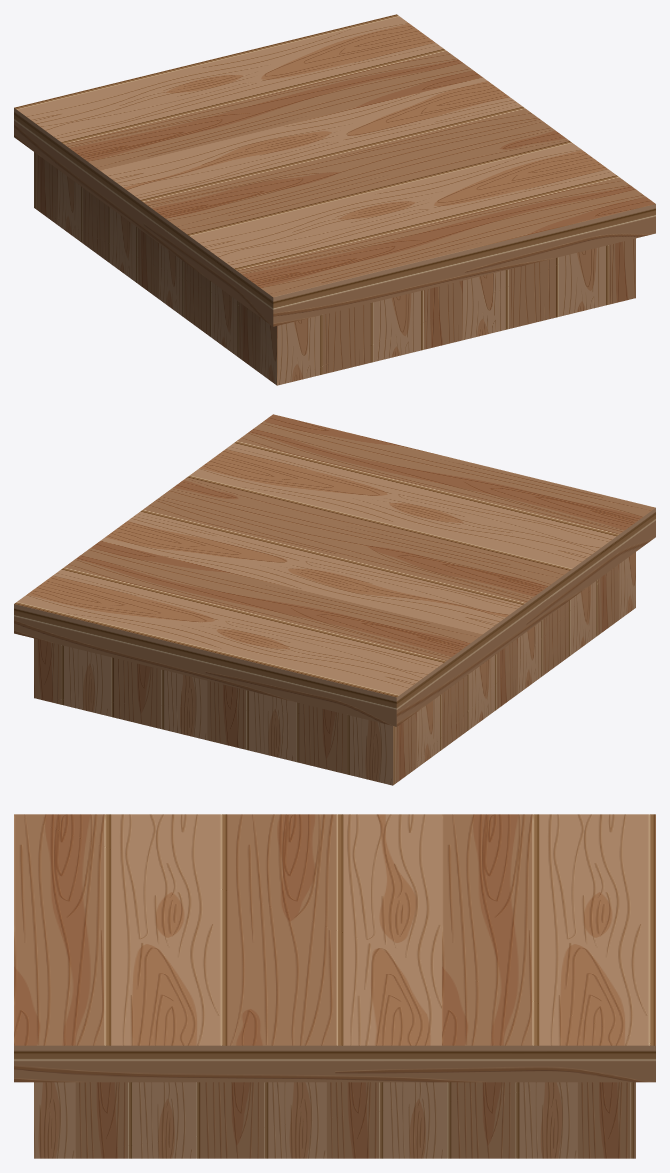
Rendered from for_towels.fbx.
3 views of the same model, one above another, from view 1: azimuth 30°, elevation 25°; view 2: azimuth 150°, elevation 25°; view 3: azimuth 270°, elevation 25° (orthographic). The views are drawn at different scales.
Visible parts, largest first — view 1: toewels001, toewels; view 2: toewels001, toewels; view 3: toewels001, toewels.
Part boxes in pixels (<box>): toewels001: <box>14,14,655,326</box>; toewels: <box>34,152,635,385</box>; toewels001: <box>14,414,655,726</box>; toewels: <box>34,552,635,785</box>; toewels001: <box>14,814,655,1082</box>; toewels: <box>34,1082,635,1158</box>.
Size of the model in its own units: 18.95 by 4.59 by 22.23.
Materials: 1 (1 with a texture image).
